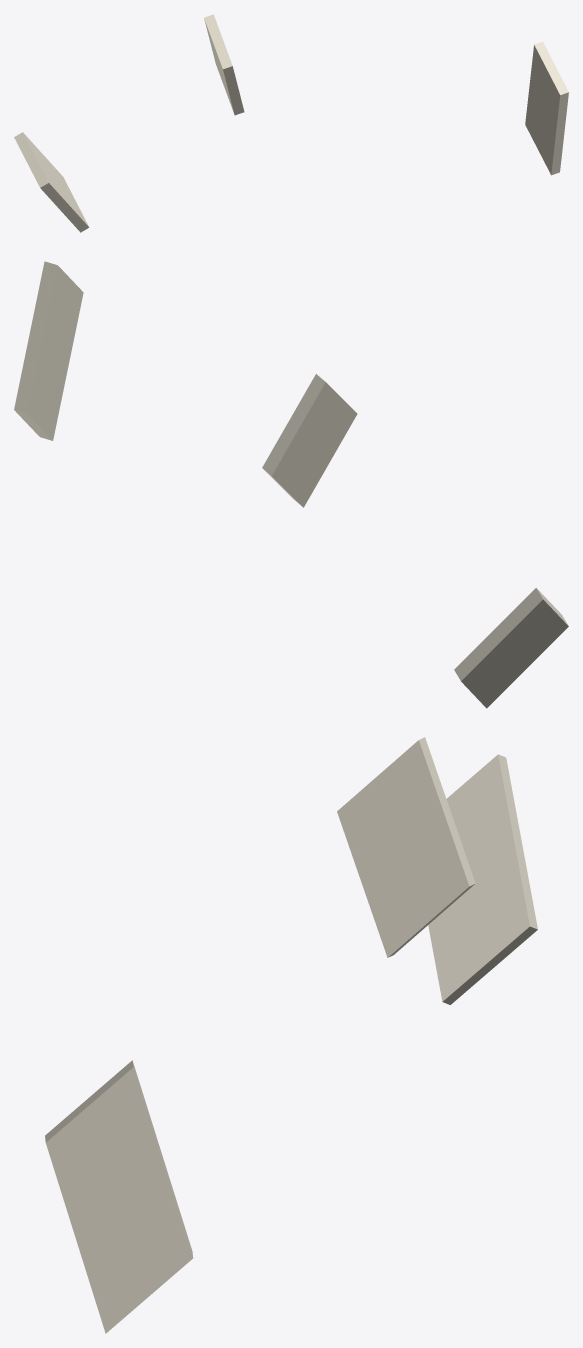
The picture shows the model from 3 angles, top to bottom: view 1: azimuth 30°, elevation 25°; view 2: azimuth 150°, elevation 25°; view 3: azimuth 270°, elevation 25°; orthographic projection. The views are drawn at different scales.
Parts seen in each view (by area): view 1: ZA_ee051803ba430f6f; view 2: ZA_ee051803ba430f6f; view 3: ZA_ee051803ba430f6f.
Part boxes in pixels (bbox=[...]): ZA_ee051803ba430f6f: bbox=[14, 14, 568, 232]; ZA_ee051803ba430f6f: bbox=[14, 261, 568, 708]; ZA_ee051803ba430f6f: bbox=[45, 737, 537, 1333].
Bounding box in the file's own units: 0.0248 × 0.0103 × 0.0119.
